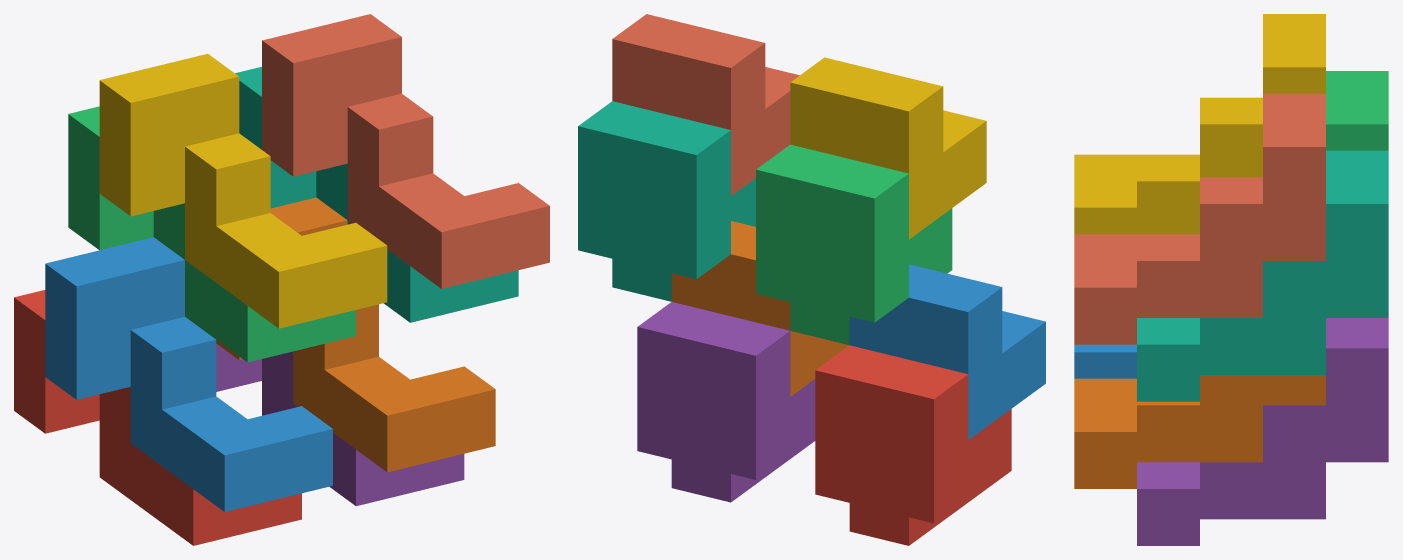
File: tiling.obj
3 renders of one model, left to right at view 1: azimuth 30°, elevation 25°; view 2: azimuth 150°, elevation 25°; view 3: azimuth 270°, elevation 25°, orthographic. The views are drawn at different scales.
Visible parts, largest first — view 1: copy_1_domain_4, copy_1_domain_2, copy_1_domain_8, copy_1_domain_6, copy_1_domain_1, copy_1_domain_3, copy_1_domain_7, copy_1_domain_5; view 2: copy_1_domain_1, copy_1_domain_5, copy_1_domain_3, copy_1_domain_7, copy_1_domain_4, copy_1_domain_8, copy_1_domain_2, copy_1_domain_6; view 3: copy_1_domain_8, copy_1_domain_7, copy_1_domain_5, copy_1_domain_4, copy_1_domain_6, copy_1_domain_3, copy_1_domain_2.
Boxes of the visible parts, x1=… form: copy_1_domain_4: x1=99, y1=53, x2=387, y2=328; copy_1_domain_2: x1=45, y1=237, x2=332, y2=511; copy_1_domain_8: x1=262, y1=14, x2=549, y2=288; copy_1_domain_6: x1=216, y1=197, x2=495, y2=472; copy_1_domain_1: x1=14, y1=290, x2=301, y2=545; copy_1_domain_3: x1=68, y1=106, x2=355, y2=362; copy_1_domain_7: x1=235, y1=66, x2=518, y2=322; copy_1_domain_5: x1=216, y1=344, x2=464, y2=506; copy_1_domain_1: x1=815, y1=345, x2=1011, y2=545; copy_1_domain_5: x1=637, y1=302, x2=815, y2=502; copy_1_domain_3: x1=756, y1=144, x2=952, y2=345; copy_1_domain_7: x1=578, y1=101, x2=755, y2=301; copy_1_domain_4: x1=790, y1=57, x2=986, y2=239; copy_1_domain_8: x1=612, y1=14, x2=799, y2=195; copy_1_domain_2: x1=849, y1=264, x2=1045, y2=439; copy_1_domain_6: x1=671, y1=221, x2=848, y2=396; copy_1_domain_8: x1=1074, y1=93, x2=1325, y2=344; copy_1_domain_7: x1=1137, y1=150, x2=1388, y2=401; copy_1_domain_5: x1=1137, y1=318, x2=1388, y2=545; copy_1_domain_4: x1=1074, y1=14, x2=1325, y2=234; copy_1_domain_6: x1=1074, y1=375, x2=1325, y2=488; copy_1_domain_3: x1=1326, y1=71, x2=1388, y2=150; copy_1_domain_2: x1=1074, y1=344, x2=1136, y2=378.
Bounding box in the file's own units: 7 × 7 × 5.
